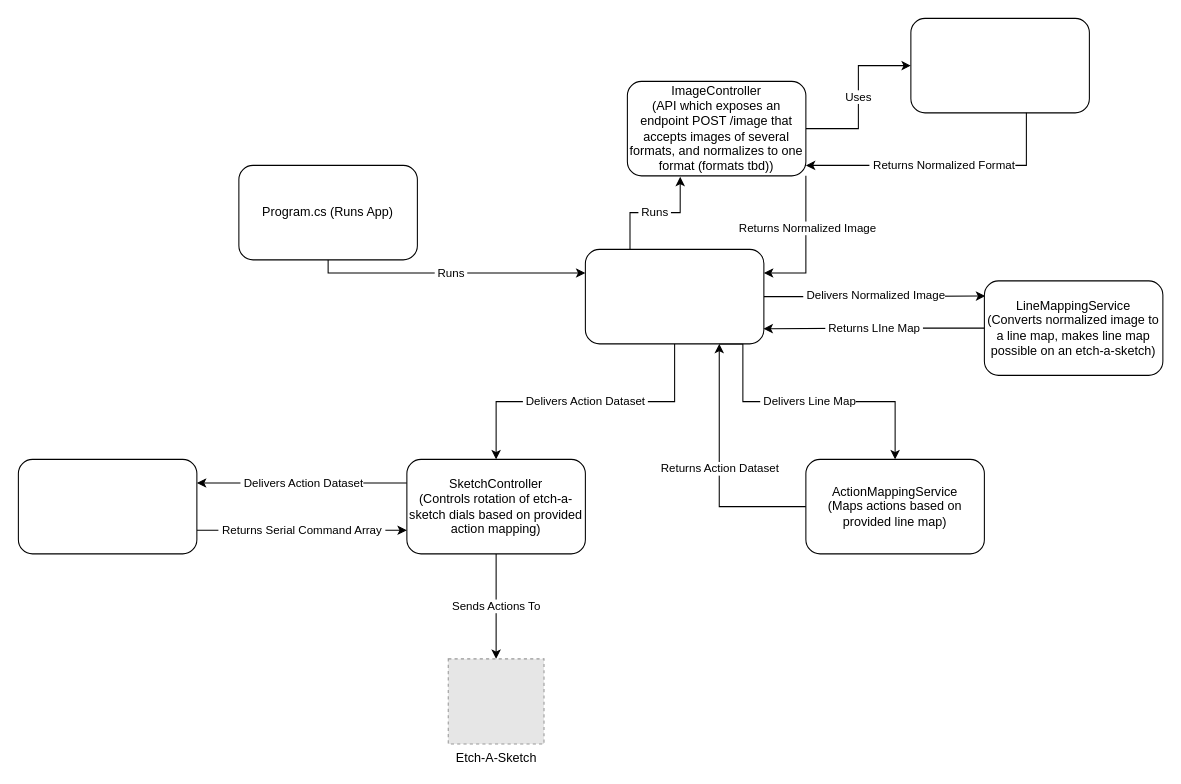
Some shapes in this 1181 by 784 pixel diagram are drawn without their labels. Grey dashed boxes stand in for pictures. The shapes that lost their labels are listed below. From the top down, each one's centre as x and y in pixels, then its label:
the point at 999,65: ImageConverterService (Converts Images to single format (TBD))
the point at 674,296: MainController (Runs Main Event Loop)
the point at 107,506: SerialControlConverter (Converts Action data to Serial Command)
